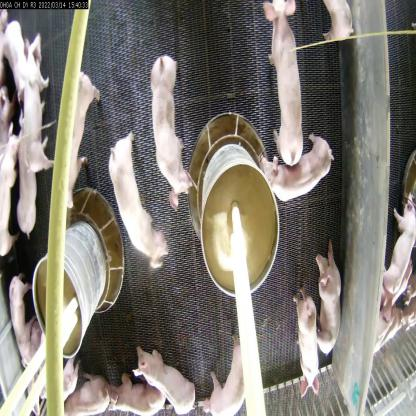Pig: (104, 127, 179, 279), (146, 48, 199, 217), (261, 0, 314, 167), (60, 62, 102, 224), (254, 127, 335, 208), (18, 28, 53, 172), (133, 336, 196, 416), (379, 183, 416, 313), (196, 339, 254, 416), (290, 288, 324, 399), (311, 242, 342, 361), (101, 365, 170, 416), (9, 272, 36, 378)
